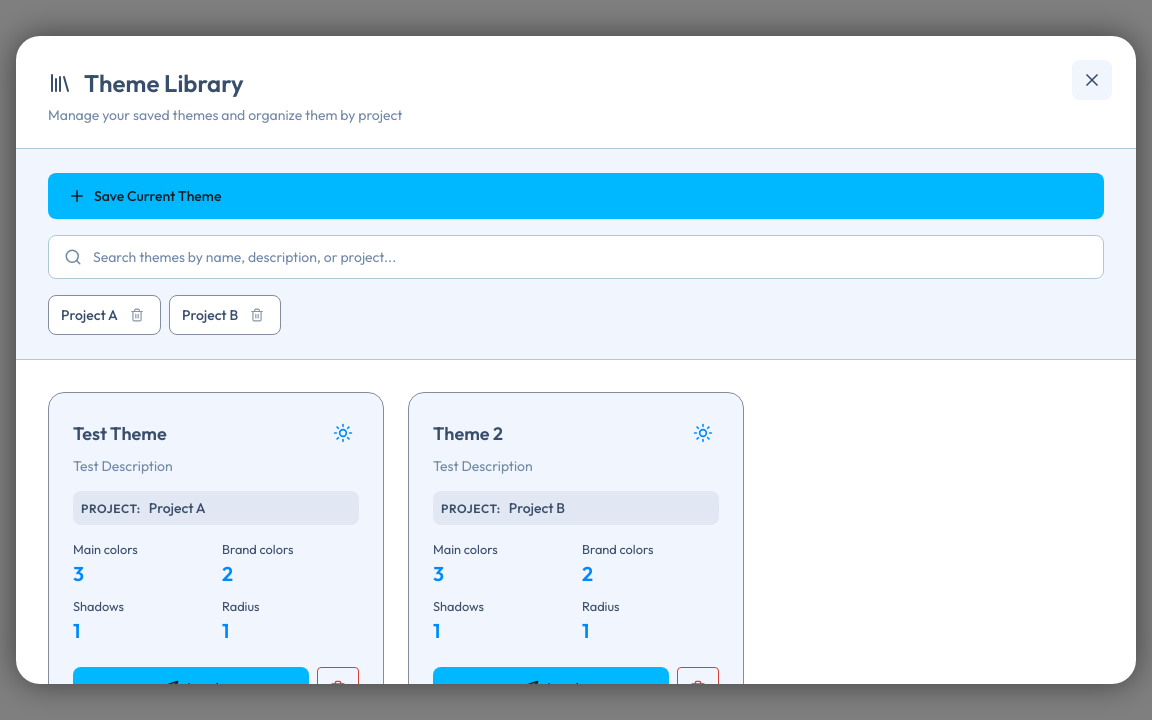
Test: LibraryModal Component › Functionality › filters themes by project
This screenshot has width=1152, height=720.
# Click on Project A badge to filter
Click the button with aria-label "Select project Project A".
click(104, 315)  # box [48, 295, 161, 335]
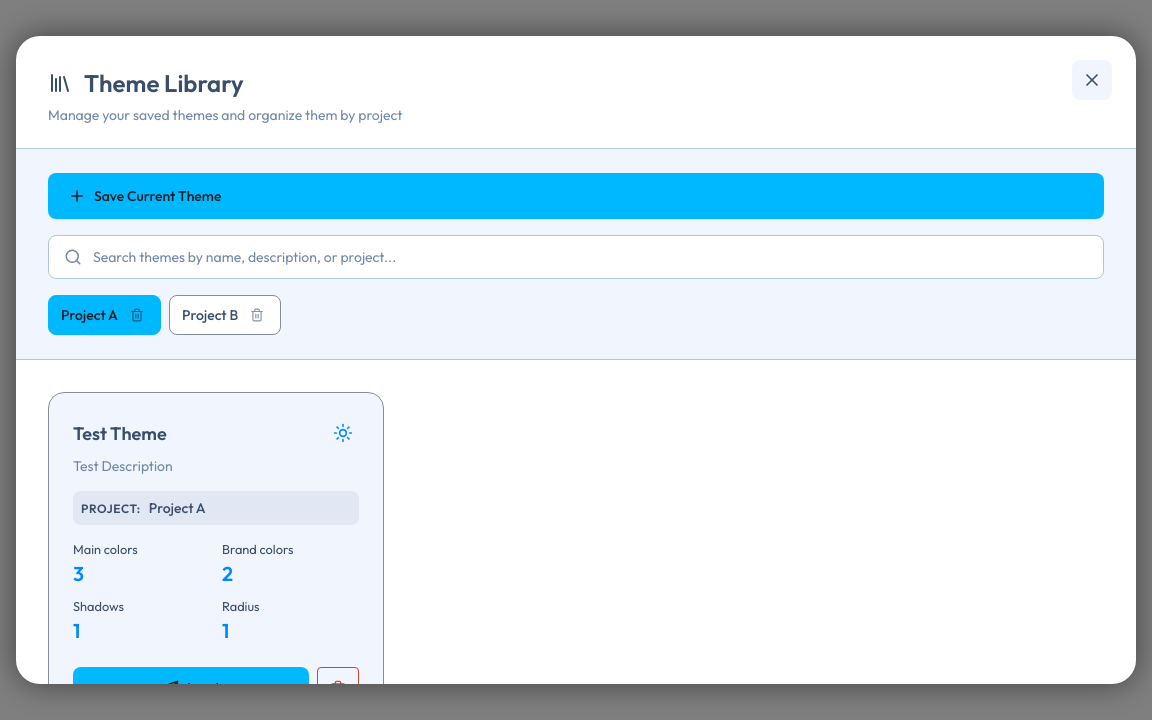
Expected: the heading "Test Theme" is shown, [73, 422, 167, 444]
Now the heading "Theme 2" is gone
